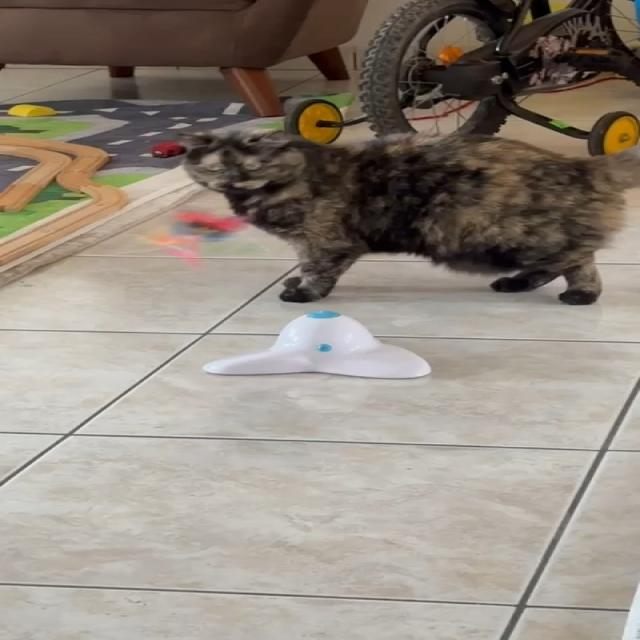authorized: (176, 125, 639, 306)
